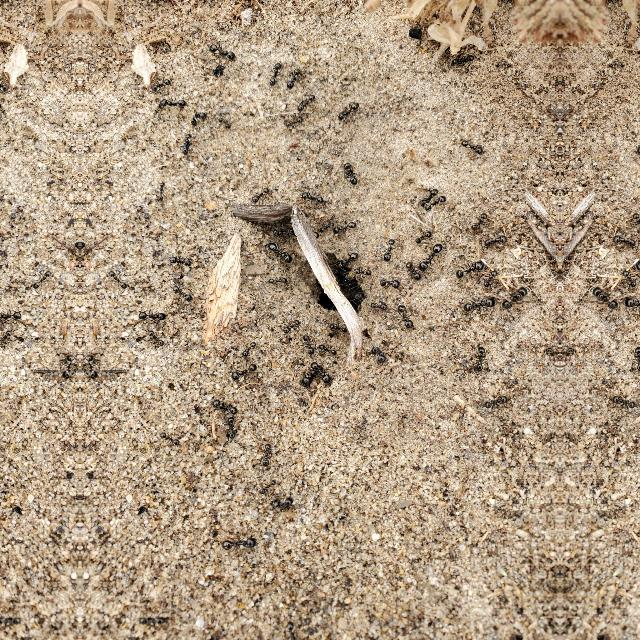Messor: (391, 296, 423, 332), (417, 240, 447, 274), (464, 292, 498, 316), (220, 532, 260, 552), (227, 359, 260, 383), (476, 388, 508, 412), (367, 338, 391, 369), (264, 238, 292, 264), (206, 43, 242, 63), (480, 229, 514, 249), (606, 229, 640, 249), (210, 394, 243, 414), (612, 388, 640, 411), (105, 268, 131, 292), (29, 268, 55, 292), (376, 232, 398, 260), (332, 102, 361, 122), (409, 224, 435, 246), (498, 286, 524, 308), (307, 361, 333, 383), (596, 286, 622, 308), (420, 191, 448, 211), (158, 430, 186, 450), (448, 50, 476, 70), (223, 412, 241, 442), (334, 249, 358, 271), (296, 332, 316, 358), (332, 218, 358, 238), (136, 307, 168, 323), (268, 224, 296, 242), (452, 259, 483, 275), (256, 474, 278, 496), (467, 210, 489, 232), (340, 161, 360, 185), (458, 137, 484, 155), (285, 64, 303, 90), (270, 493, 296, 511), (259, 439, 275, 468), (621, 292, 640, 316), (238, 336, 258, 358), (316, 340, 338, 360), (172, 282, 194, 302), (144, 328, 166, 348), (168, 254, 195, 270), (267, 58, 281, 88), (280, 316, 300, 336), (296, 93, 316, 113), (472, 341, 486, 369), (378, 272, 402, 288), (0, 307, 24, 323), (299, 190, 325, 204), (250, 184, 270, 202), (326, 320, 348, 336), (300, 366, 322, 382), (149, 76, 171, 92), (160, 96, 188, 108), (190, 108, 208, 126), (180, 134, 196, 154), (0, 328, 16, 348), (482, 268, 498, 284), (622, 268, 638, 284), (352, 264, 372, 276), (369, 300, 388, 312), (318, 219, 334, 233), (266, 276, 288, 286), (633, 341, 640, 369), (631, 210, 640, 231), (0, 76, 11, 91)
